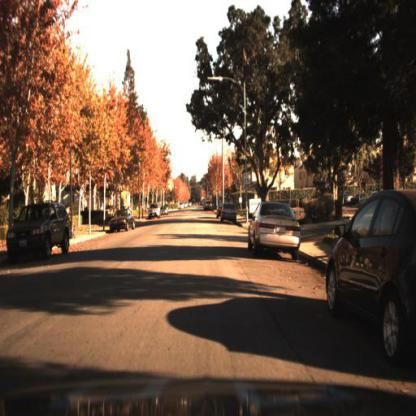car: (324, 188, 416, 373), (5, 196, 76, 264), (247, 195, 303, 257), (106, 208, 137, 234), (219, 201, 238, 225)
